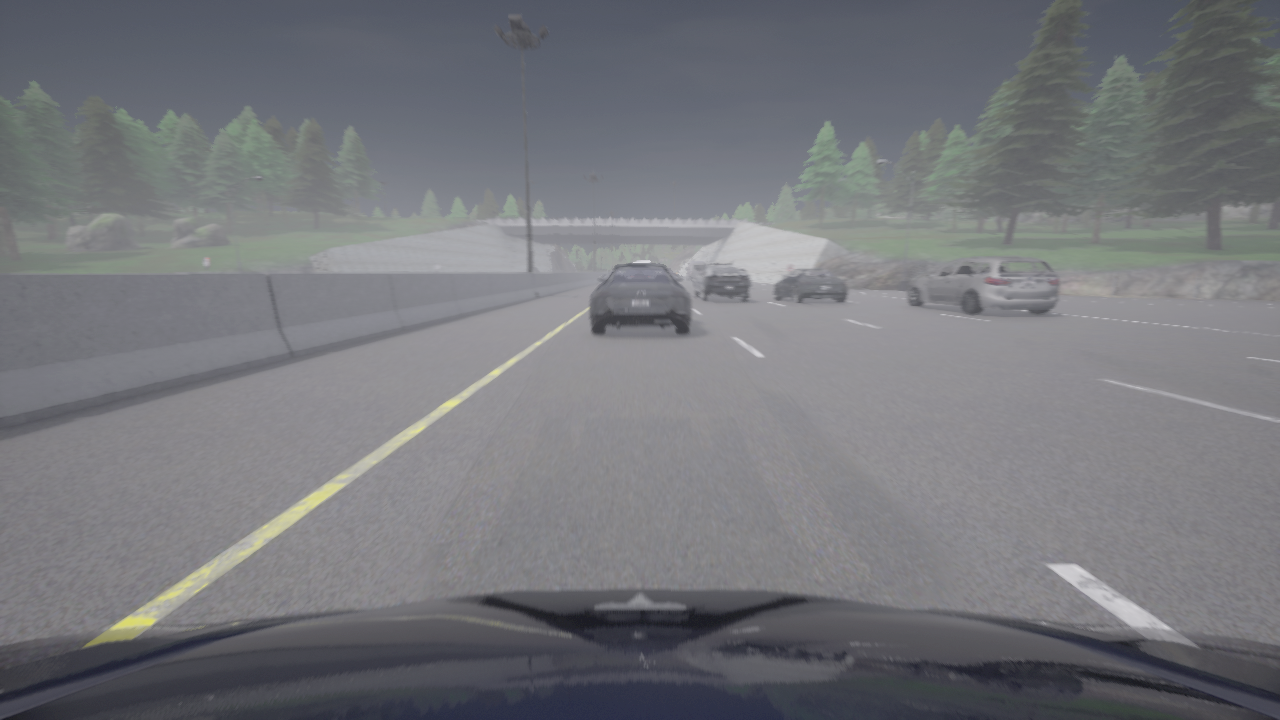cyclist: (0, 588, 1279, 719), (907, 256, 1058, 314), (590, 265, 690, 334), (774, 268, 848, 303), (694, 262, 748, 301), (686, 264, 705, 277), (740, 269, 750, 288), (631, 261, 651, 264)
